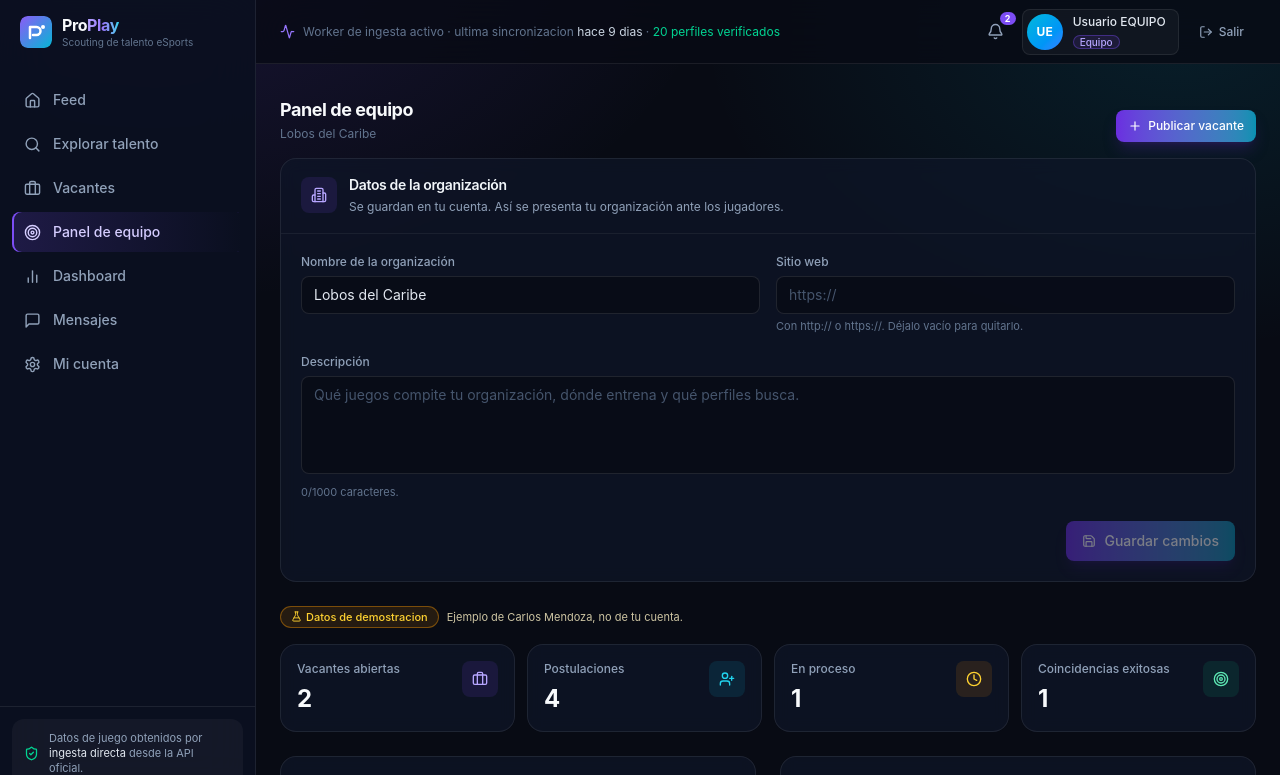
Test: Datos de la organización en el panel de equipo › lleva a su campo el error de validación de la API
Type "https://lobos.gg" into the field labelled "Sitio web" at (1006, 294), box [776, 276, 1235, 314]
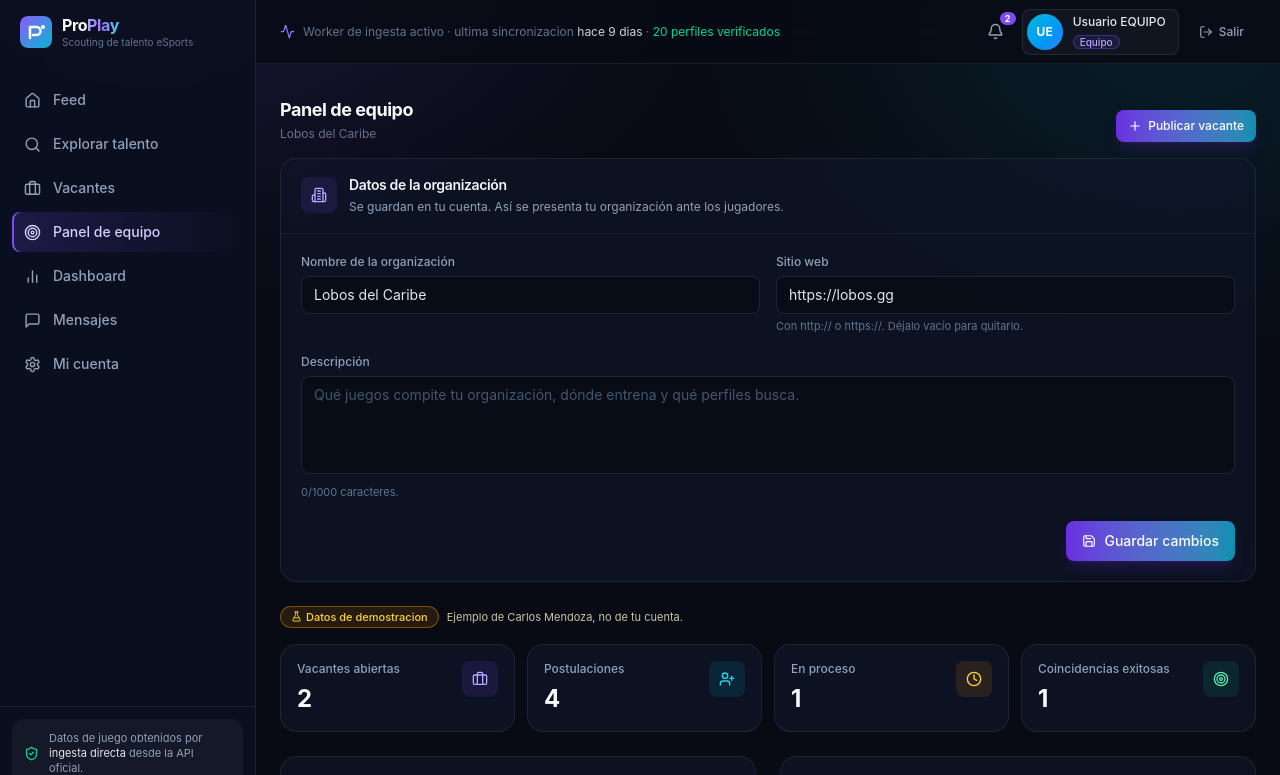
Click the button "Guardar cambios" at (1151, 540), box [1066, 520, 1235, 560]
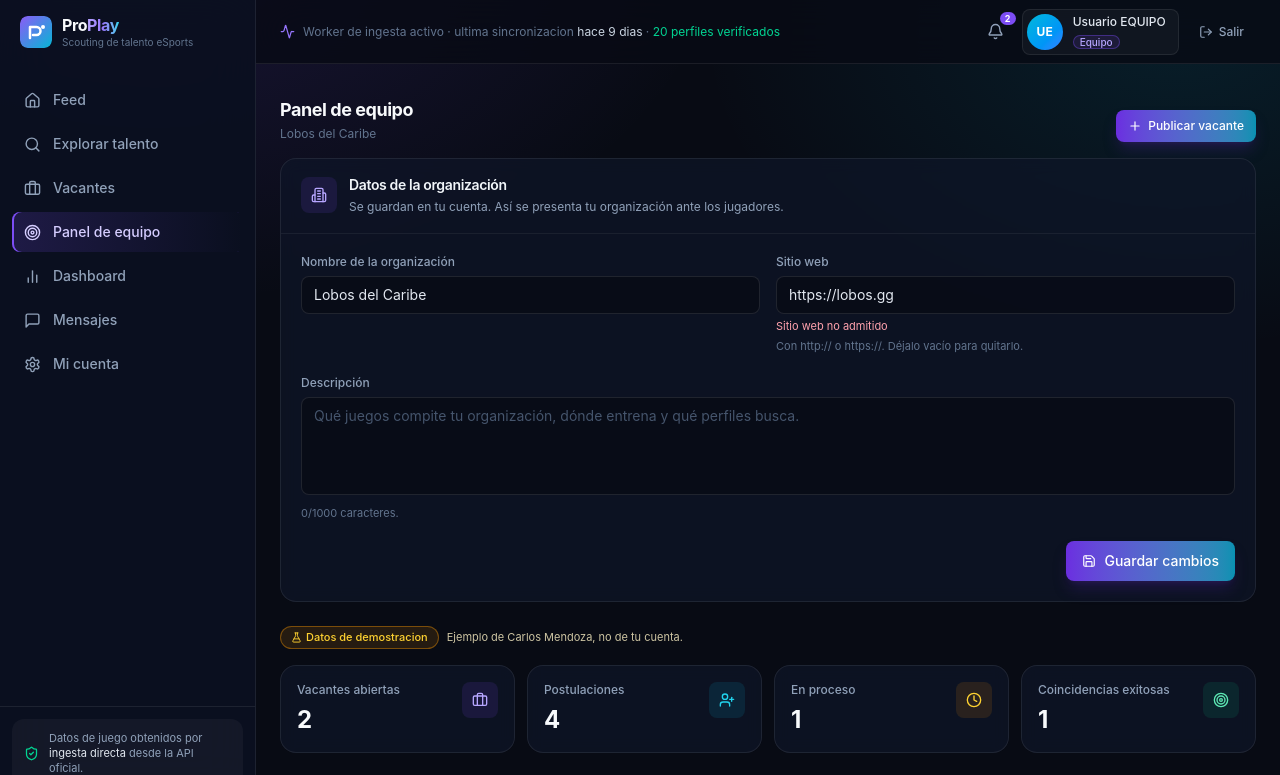
Expected: the text "Sitio web no admitido" is shown, [776, 318, 888, 332]
